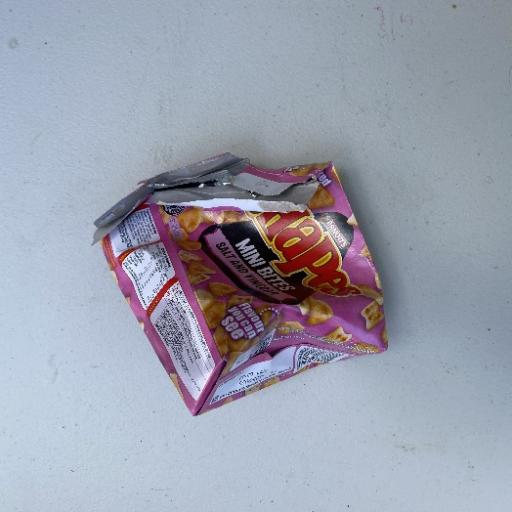Cardboard: (94, 152, 390, 418)
